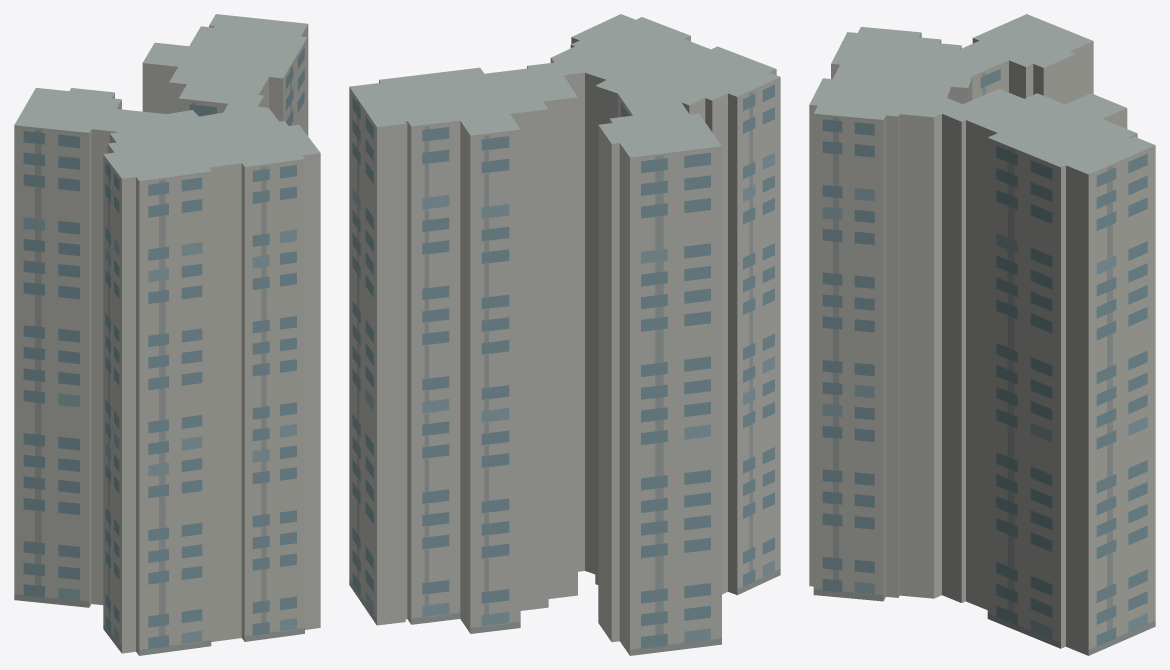
The model's file is residential-36abb648-f572-43fc-b308-95e69b97e896.glb.
3 renders of one model, left to right at view 1: azimuth 30°, elevation 25°; view 2: azimuth 150°, elevation 25°; view 3: azimuth 270°, elevation 25°, orthographic. The views are drawn at different scales.
Parts seen in each view (by area): view 1: residential-36abb648-f572-43fc-b308-95e69b97e896.tmp; view 2: residential-36abb648-f572-43fc-b308-95e69b97e896.tmp; view 3: residential-36abb648-f572-43fc-b308-95e69b97e896.tmp.
Part boxes in pixels (box(x1,y1,x2,y2)): residential-36abb648-f572-43fc-b308-95e69b97e896.tmp: box(14, 14, 320, 655); residential-36abb648-f572-43fc-b308-95e69b97e896.tmp: box(349, 14, 780, 655); residential-36abb648-f572-43fc-b308-95e69b97e896.tmp: box(809, 14, 1155, 655).
Size of the model in its own units: 46.5 by 65 by 42.4.
